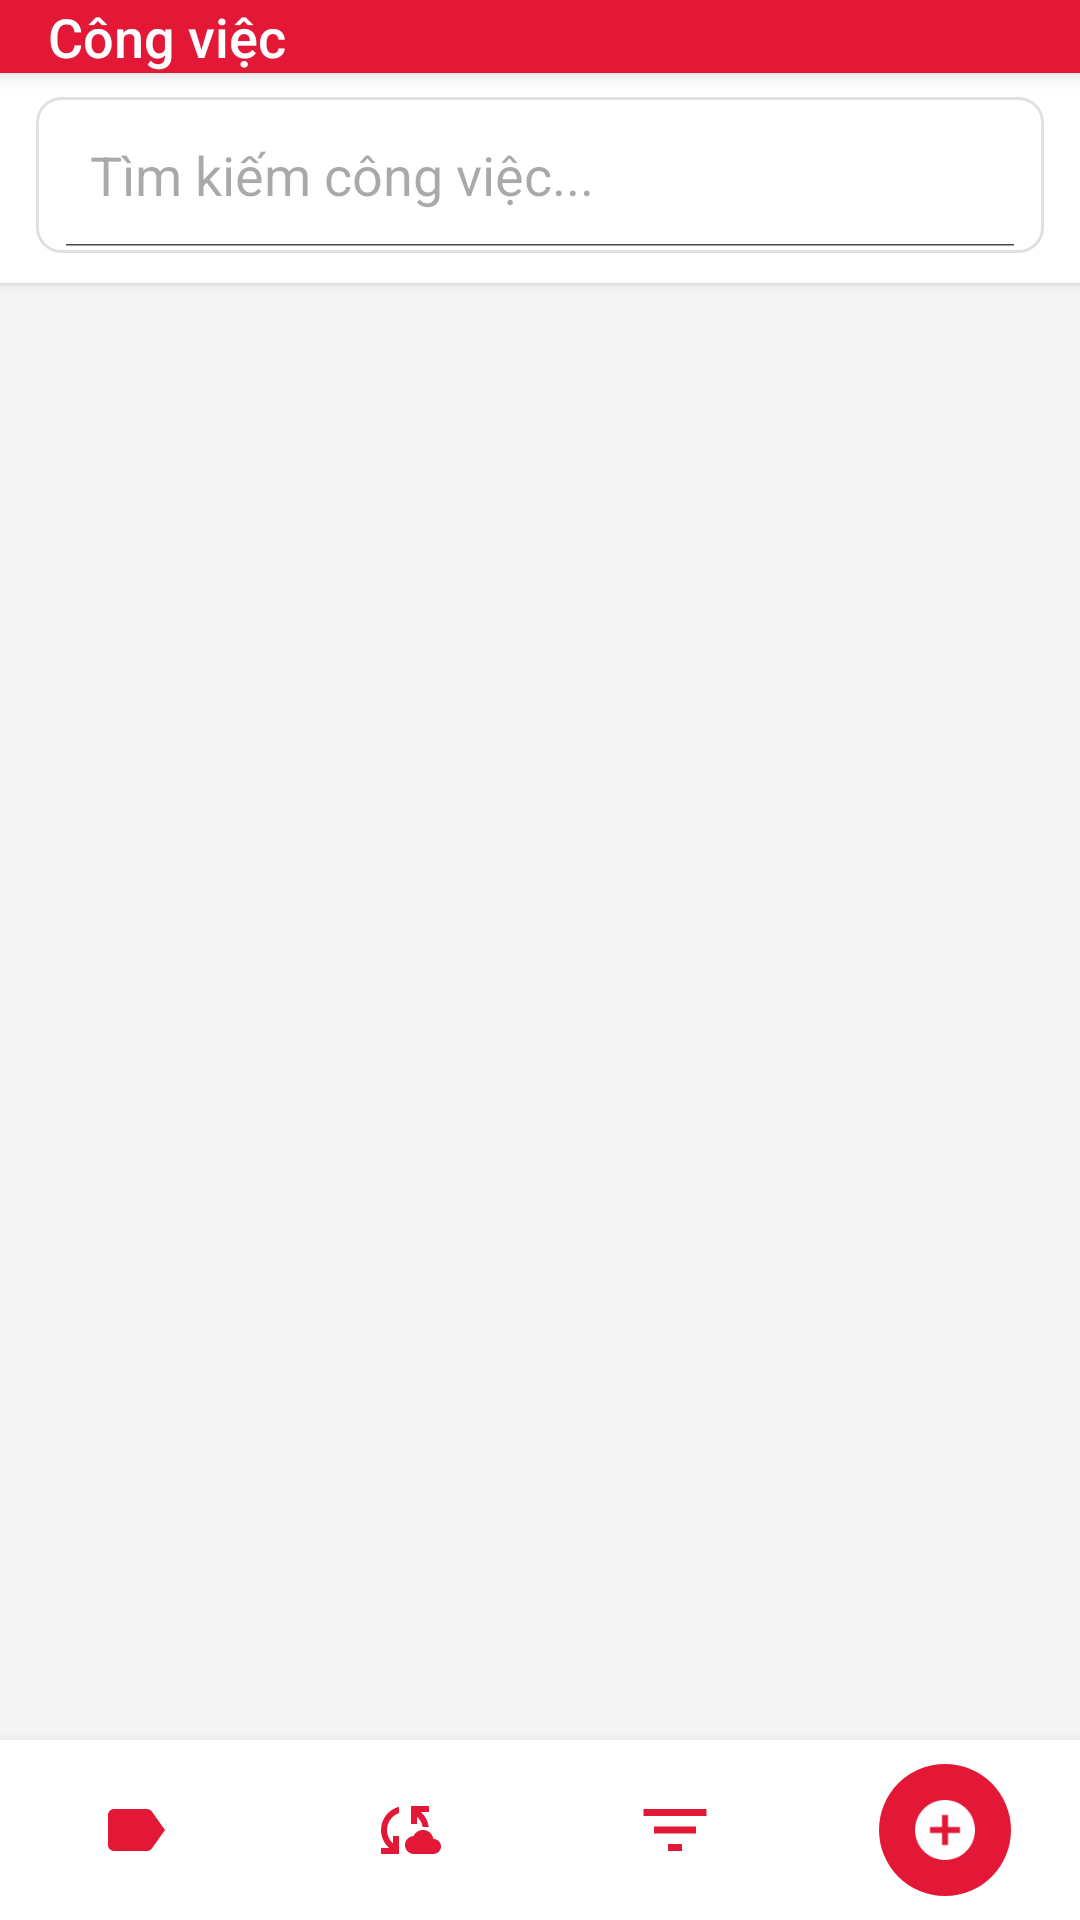

Icons on this 1080 × 1920 Android screen, each with the point to tap as (x,y):
Add task: (945,1830)
Filter: (675,1830)
Sync: (411,1830)
tag: (136,1830)
